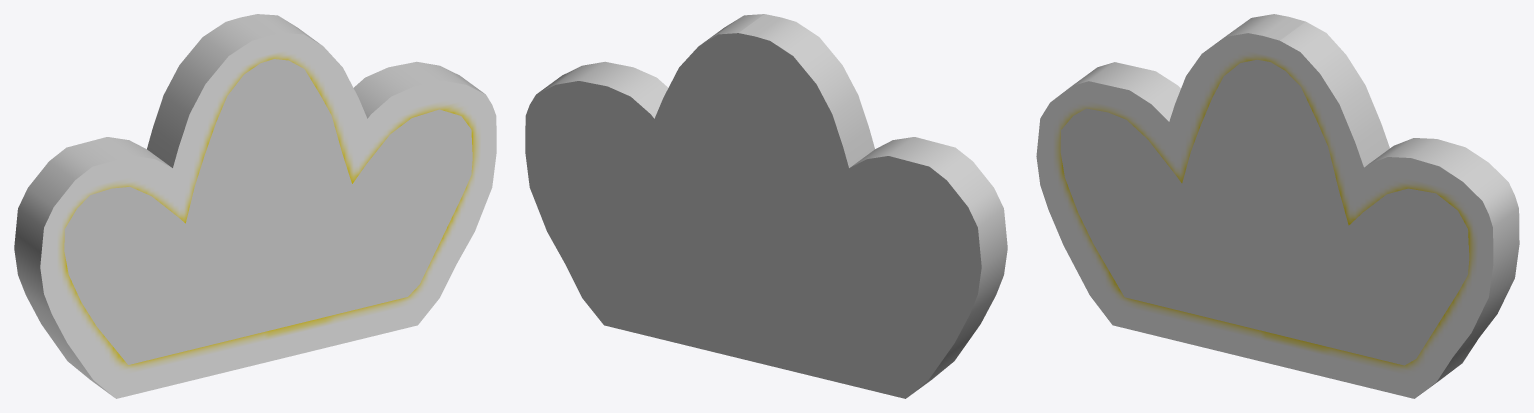
Rendered from princeCrown.fbx.
The picture shows the model from 3 angles, left to right: view 1: azimuth 30°, elevation 25°; view 2: azimuth 150°, elevation 25°; view 3: azimuth 330°, elevation 25°; orthographic projection.
Visible parts, largest first — view 1: crown; view 2: crown; view 3: crown.
Boxes of the visible parts, x1=… form: crown: x1=14, y1=14, x2=496, y2=398; crown: x1=525, y1=14, x2=1007, y2=398; crown: x1=1036, y1=14, x2=1519, y2=398.
Bounding box in the file's own units: 59.04 × 40.25 × 5.83.
